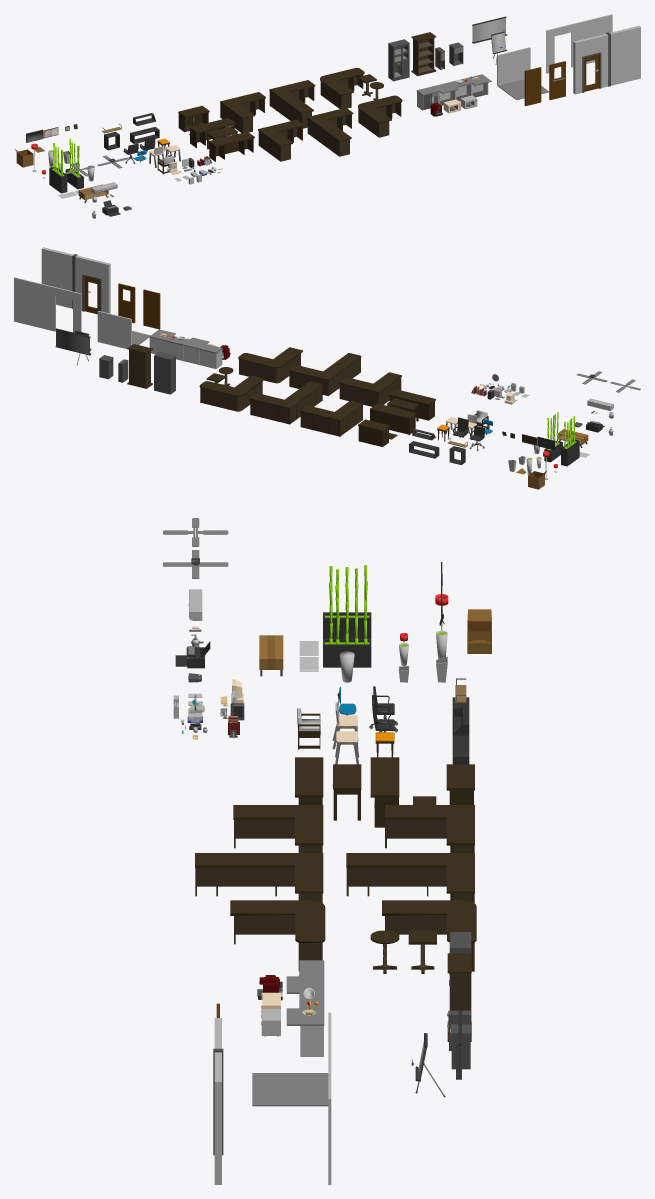
Rendered from Office_Set_LeoVNB.fbx.
3 views of the same model, one above another, from view 1: azimuth 30°, elevation 25°; view 2: azimuth 150°, elevation 25°; view 3: azimuth 270°, elevation 25° (orthographic). The views are drawn at different scales.
Parts seen in each view (by area): view 1: Wall_Standard, Office_Desk_4_Two_Alt, Office_Desk_4_Two, Wall_Standard_Door, Office_Desk_4_Rounded_Alt, Office_Desk_4_Alt, Office_Desk_4_Rounded, Office_Desk_4, Wall_Small, Bookshelf, Office_Desk_3_Alt, Wall_Medium_Door (+14 smaller); view 2: Office_Desk_4_Two, Office_Desk_4_Two_Alt, Office_Desk_4, Wall_Medium, Office_Desk_4_Rounded, Office_Desk_4_Rounded_Alt, Office_Desk_4_Alt, Wall_Standard, Wall_Standard_Door, Wall_Small, Office_Desk_3, Bookshelf (+13 smaller); view 3: Office_Desk_4_Two, Office_Desk_4_Two_Alt, Office_Desk_4_Rounded_Alt, Office_Desk_4_Alt, Office_Desk_4, Office_Desk_4_Rounded, Floor, Office_Desk_3, Bookshelf, Office_CounterB2, Office_Desk_3_Alt, Nature_Deco_Small (+6 smaller).
Boxes of the visible parts, x1=… form: Wall_Standard: x1=610, y1=25, x2=640, y2=85; Office_Desk_4_Two_Alt: x1=307, y1=107, x2=353, y2=156; Office_Desk_4_Two: x1=269, y1=80, x2=315, y2=128; Wall_Standard_Door: x1=573, y1=34, x2=608, y2=94; Office_Desk_4_Rounded_Alt: x1=358, y1=95, x2=402, y2=137; Office_Desk_4_Alt: x1=258, y1=119, x2=303, y2=161; Office_Desk_4_Rounded: x1=320, y1=68, x2=364, y2=108; Office_Desk_4: x1=220, y1=92, x2=265, y2=132; Wall_Small: x1=497, y1=47, x2=530, y2=85; Bookshelf: x1=411, y1=32, x2=436, y2=76; Office_Desk_3_Alt: x1=209, y1=131, x2=254, y2=161; Wall_Medium_Door: x1=546, y1=22, x2=579, y2=73; Office_Desk_4_Two: x1=250, y1=381, x2=322, y2=424; Office_Desk_4_Two_Alt: x1=289, y1=353, x2=361, y2=395; Office_Desk_4: x1=300, y1=400, x2=363, y2=436; Wall_Medium: x1=14, y1=277, x2=47, y2=329; Office_Desk_4_Rounded: x1=199, y1=375, x2=264, y2=411; Office_Desk_4_Rounded_Alt: x1=238, y1=347, x2=302, y2=383; Office_Desk_4_Alt: x1=339, y1=372, x2=401, y2=406; Wall_Standard: x1=41, y1=247, x2=73, y2=308; Wall_Standard_Door: x1=75, y1=255, x2=110, y2=313; Wall_Small: x1=97, y1=311, x2=131, y2=348; Office_Desk_3: x1=370, y1=403, x2=416, y2=434; Bookshelf: x1=127, y1=344, x2=152, y2=388; Office_Desk_4_Two: x1=346, y1=853, x2=474, y2=903; Office_Desk_4_Two_Alt: x1=195, y1=853, x2=323, y2=902; Office_Desk_4_Rounded_Alt: x1=230, y1=900, x2=325, y2=971; Office_Desk_4_Alt: x1=233, y1=805, x2=323, y2=852; Office_Desk_4: x1=385, y1=805, x2=474, y2=852; Office_Desk_4_Rounded: x1=382, y1=900, x2=476, y2=971; Floor: x1=252, y1=1073, x2=328, y2=1106; Office_Desk_3: x1=370, y1=757, x2=399, y2=827; Bookshelf: x1=447, y1=953, x2=471, y2=1041; Office_CounterB2: x1=286, y1=1008, x2=324, y2=1056; Office_Desk_3_Alt: x1=295, y1=757, x2=323, y2=804; Nature_Deco_Small: x1=323, y1=639, x2=371, y2=667.
Size of the model in its own units: 3538 by 313 by 869.
